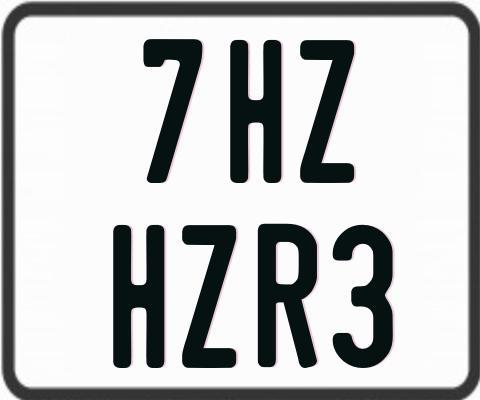3: (333, 223, 399, 368)
7: (142, 39, 203, 185)
H: (229, 39, 286, 187), (110, 222, 164, 367)
R: (258, 223, 320, 373)
Z: (299, 37, 357, 181), (180, 223, 234, 372)
